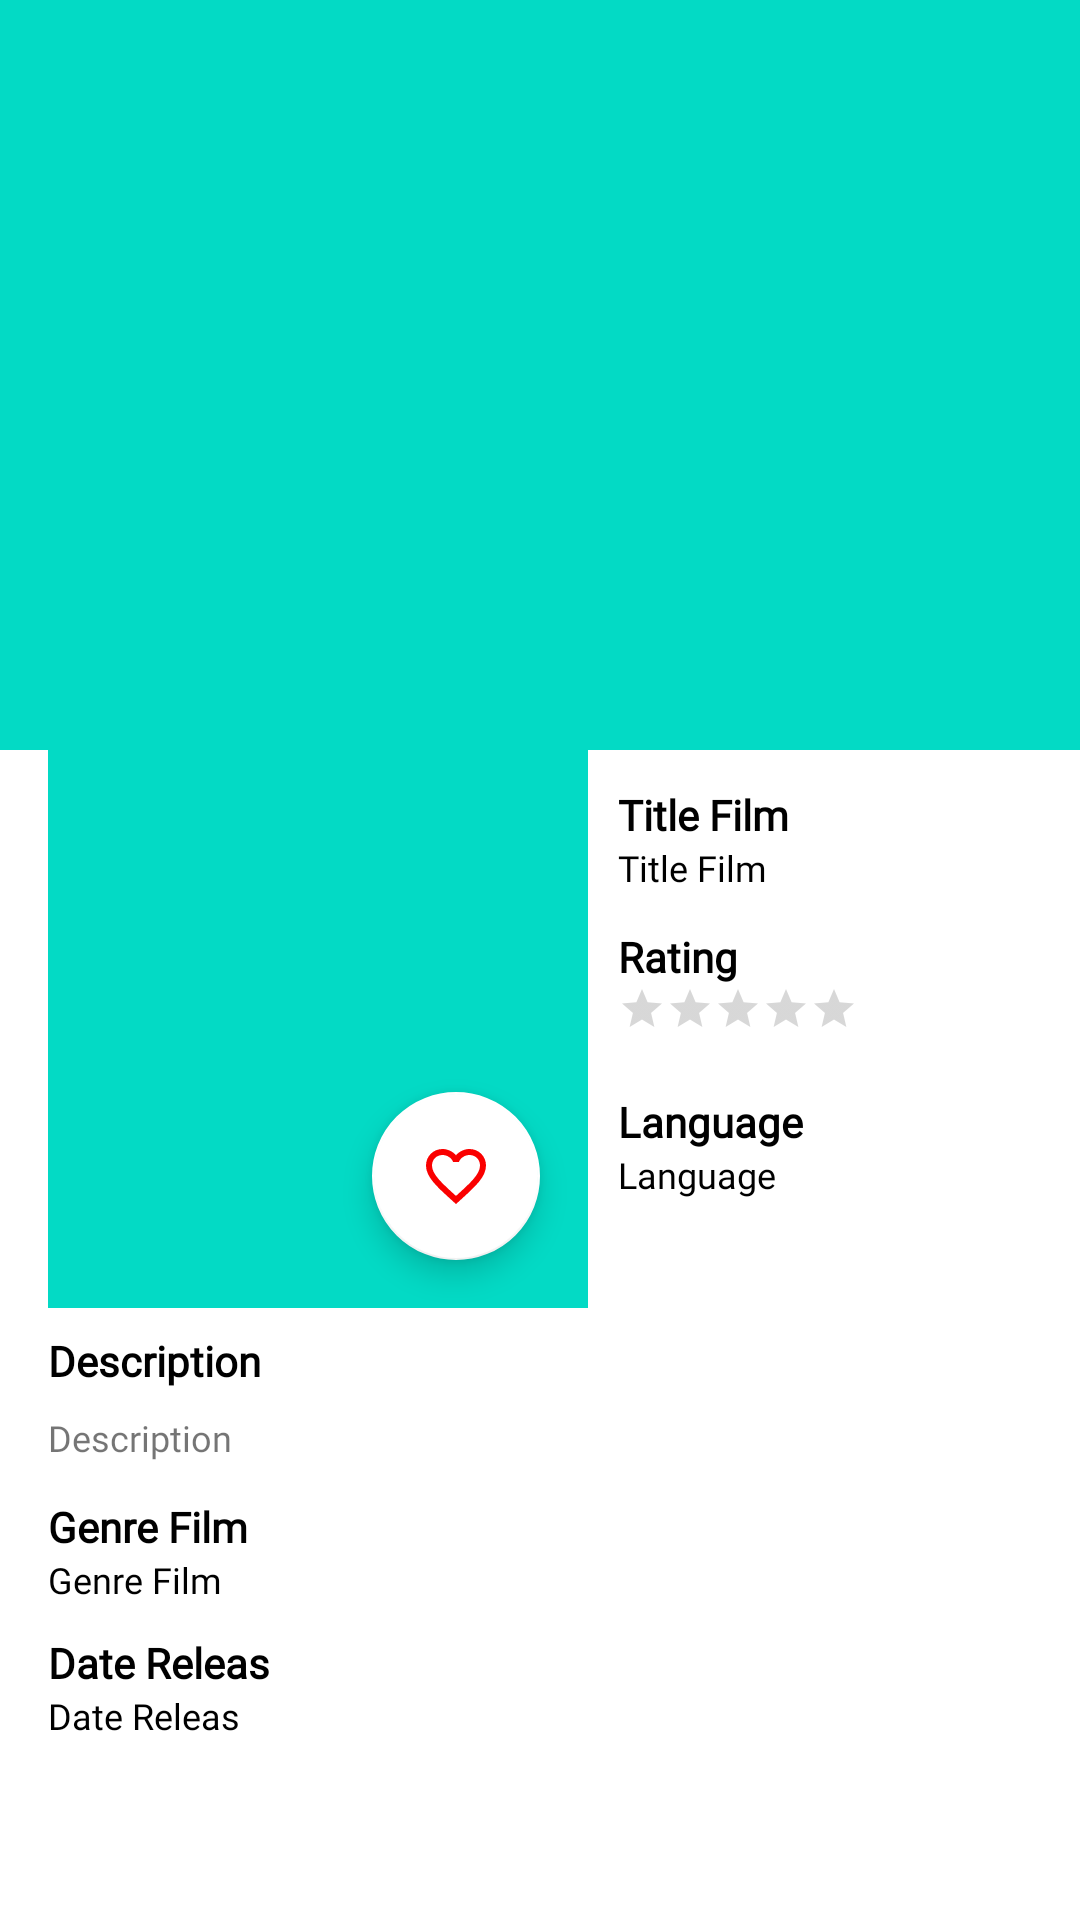

Icons on this 1080px×1920px Android screen, each with its box as [x1, y1, x2, y2]:
favorite border: [372, 1092, 540, 1260]
